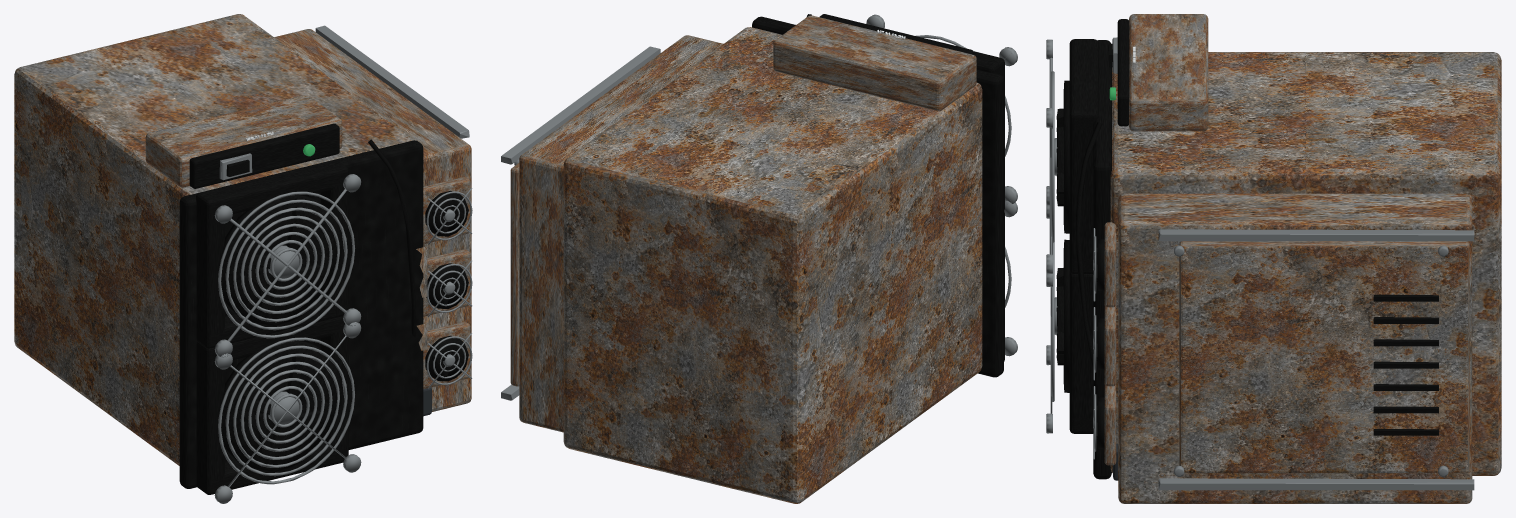
The model's file is rig-01.glb.
3 views of the same model, side by side, from view 1: azimuth 30°, elevation 25°; view 2: azimuth 150°, elevation 25°; view 3: azimuth 270°, elevation 25° (orthographic). The views are drawn at different scales.
Parts seen in each view (by area): view 1: aluminium hash chamber, front cooling plate, side power supply, top controller, lower main fan well, upper main fan well, controller face, upper main frame, upper main frame.003, lower main frame.003, extruded side rail.001, lower main frame.001 (+28 smaller); view 2: aluminium hash chamber, side power supply, top controller, front cooling plate, extruded side rail.001, side service skin, controller face; view 3: side service skin, aluminium hash chamber, side power supply, top controller, front cooling plate, extruded side rail.001, extruded side rail, lower main frame.002, upper main frame.002, upper main frame, worn signal lead, controller face (+9 smaller).
Boxes of the visible parts, left/top/right/bottom form: aluminium hash chamber: left=14, top=14, right=414, bottom=465; front cooling plate: left=179, top=140, right=423, bottom=488; side power supply: left=274, top=29, right=471, bottom=411; top controller: left=145, top=95, right=342, bottom=187; lower main fan well: left=219, top=340, right=341, bottom=472; upper main fan well: left=219, top=194, right=341, bottom=326; controller face: left=189, top=123, right=339, bottom=188; upper main frame: left=196, top=159, right=348, bottom=216; upper main frame.003: left=196, top=195, right=224, bottom=348; lower main frame.003: left=196, top=342, right=224, bottom=494; extruded side rail.001: left=315, top=25, right=469, bottom=138; lower main frame.001: left=196, top=442, right=346, bottom=494; aluminium hash chamber: left=563, top=27, right=982, bottom=503; side power supply: left=519, top=35, right=723, bottom=432; top controller: left=773, top=15, right=976, bottom=111; front cooling plate: left=752, top=16, right=1003, bottom=377; extruded side rail.001: left=501, top=46, right=660, bottom=164; side service skin: left=510, top=163, right=519, bottom=386; controller face: left=819, top=14, right=973, bottom=54; side service skin: left=1179, top=241, right=1469, bottom=473; aluminium hash chamber: left=1110, top=52, right=1501, bottom=475; side power supply: left=1118, top=193, right=1472, bottom=503; top controller: left=1129, top=14, right=1208, bottom=131; front cooling plate: left=1093, top=40, right=1111, bottom=479; extruded side rail.001: left=1158, top=229, right=1474, bottom=241; extruded side rail: left=1158, top=478, right=1474, bottom=490; lower main frame.002: left=1069, top=271, right=1093, bottom=433; upper main frame.002: left=1069, top=115, right=1098, bottom=273; upper main frame: left=1069, top=39, right=1098, bottom=130; worn signal lead: left=1075, top=122, right=1102, bottom=368; controller face: left=1117, top=19, right=1129, bottom=126.
Size of the model in its own units: 1.49 by 1.46 by 1.72.
Materials: 7 (3 with a texture image).
